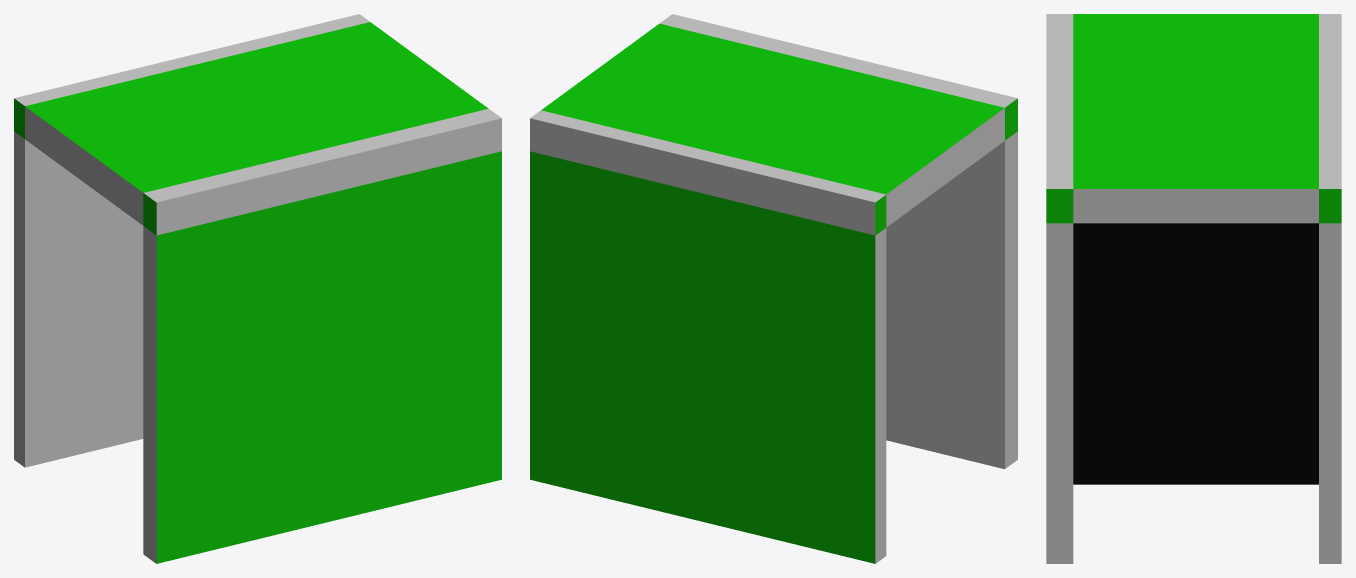
File: toilet.obj
3 renders of one model, left to right at view 1: azimuth 30°, elevation 25°; view 2: azimuth 150°, elevation 25°; view 3: azimuth 270°, elevation 25°, orthographic. The views are drawn at different scales.
Parts seen in each view (by area): view 1: Cube; view 2: Cube; view 3: Cube.
Part boxes in pixels (x1,y1,x2,y2): Cube: [14, 14, 501, 563]; Cube: [530, 14, 1017, 563]; Cube: [1046, 14, 1341, 563].
Bounding box in the file's own units: 3.4 × 3.4 × 2.43.
